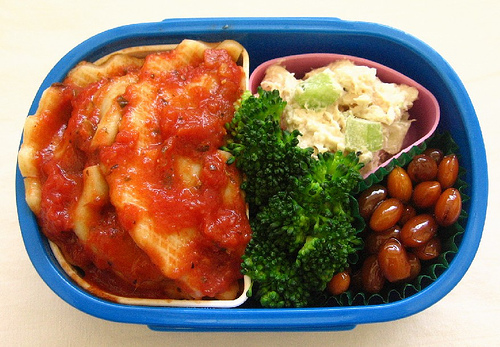broccoli: (231, 89, 364, 306)
